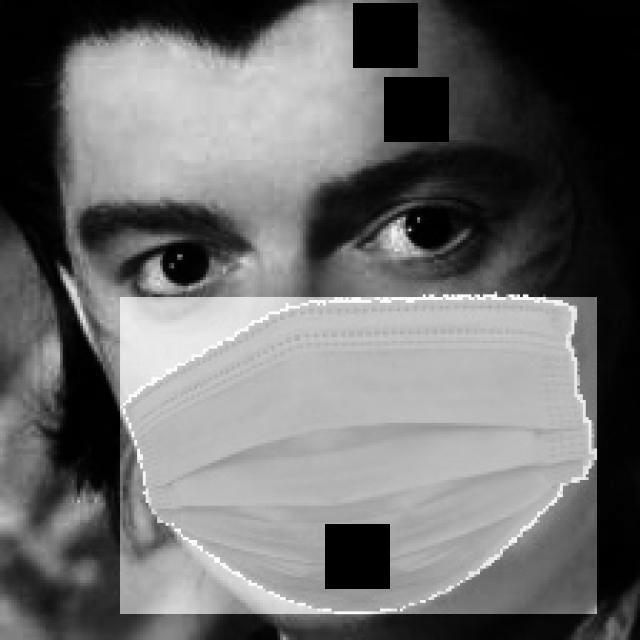mask: (120, 297, 597, 614)
